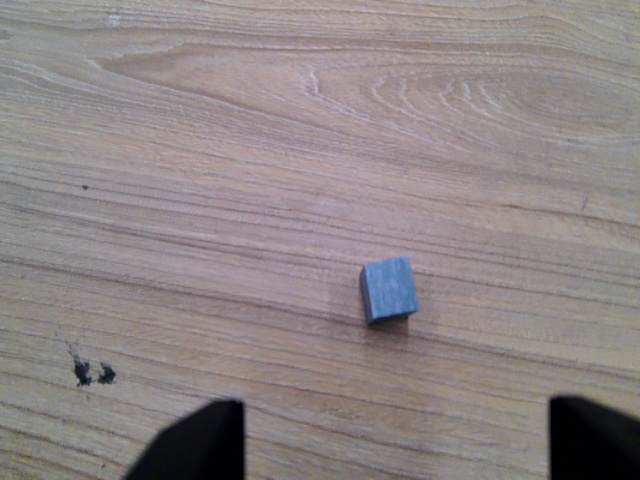stone: (356, 251, 421, 331)
